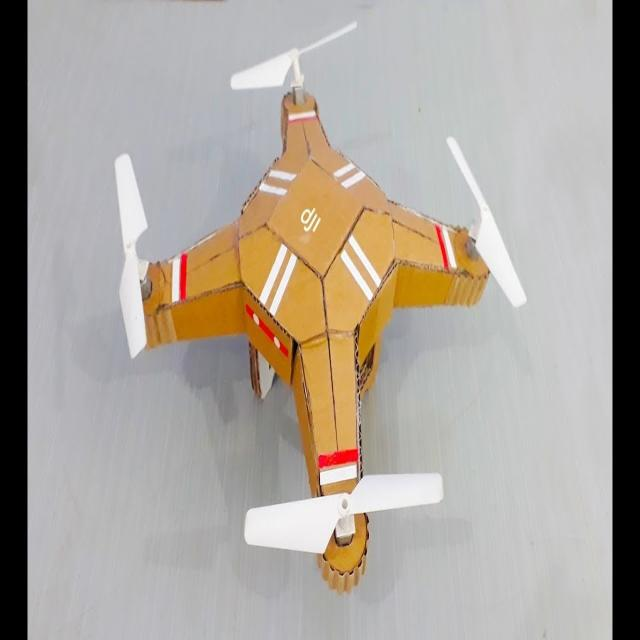drone: (109, 39, 508, 600)
